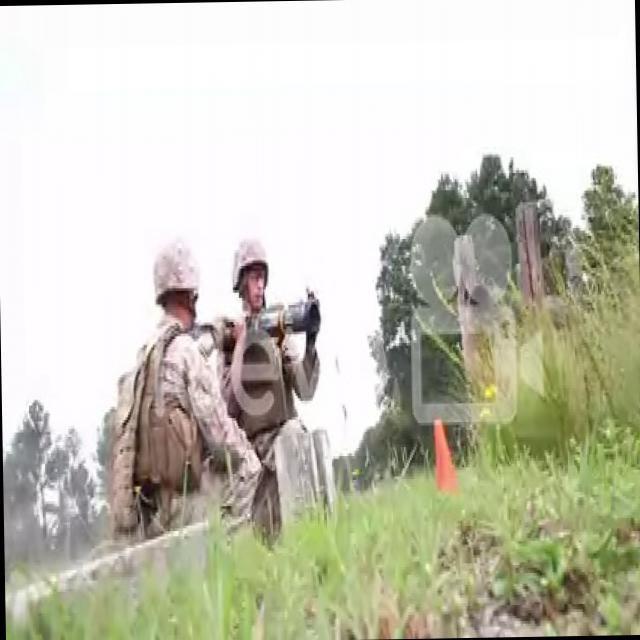rocket: (238, 290, 320, 340)
